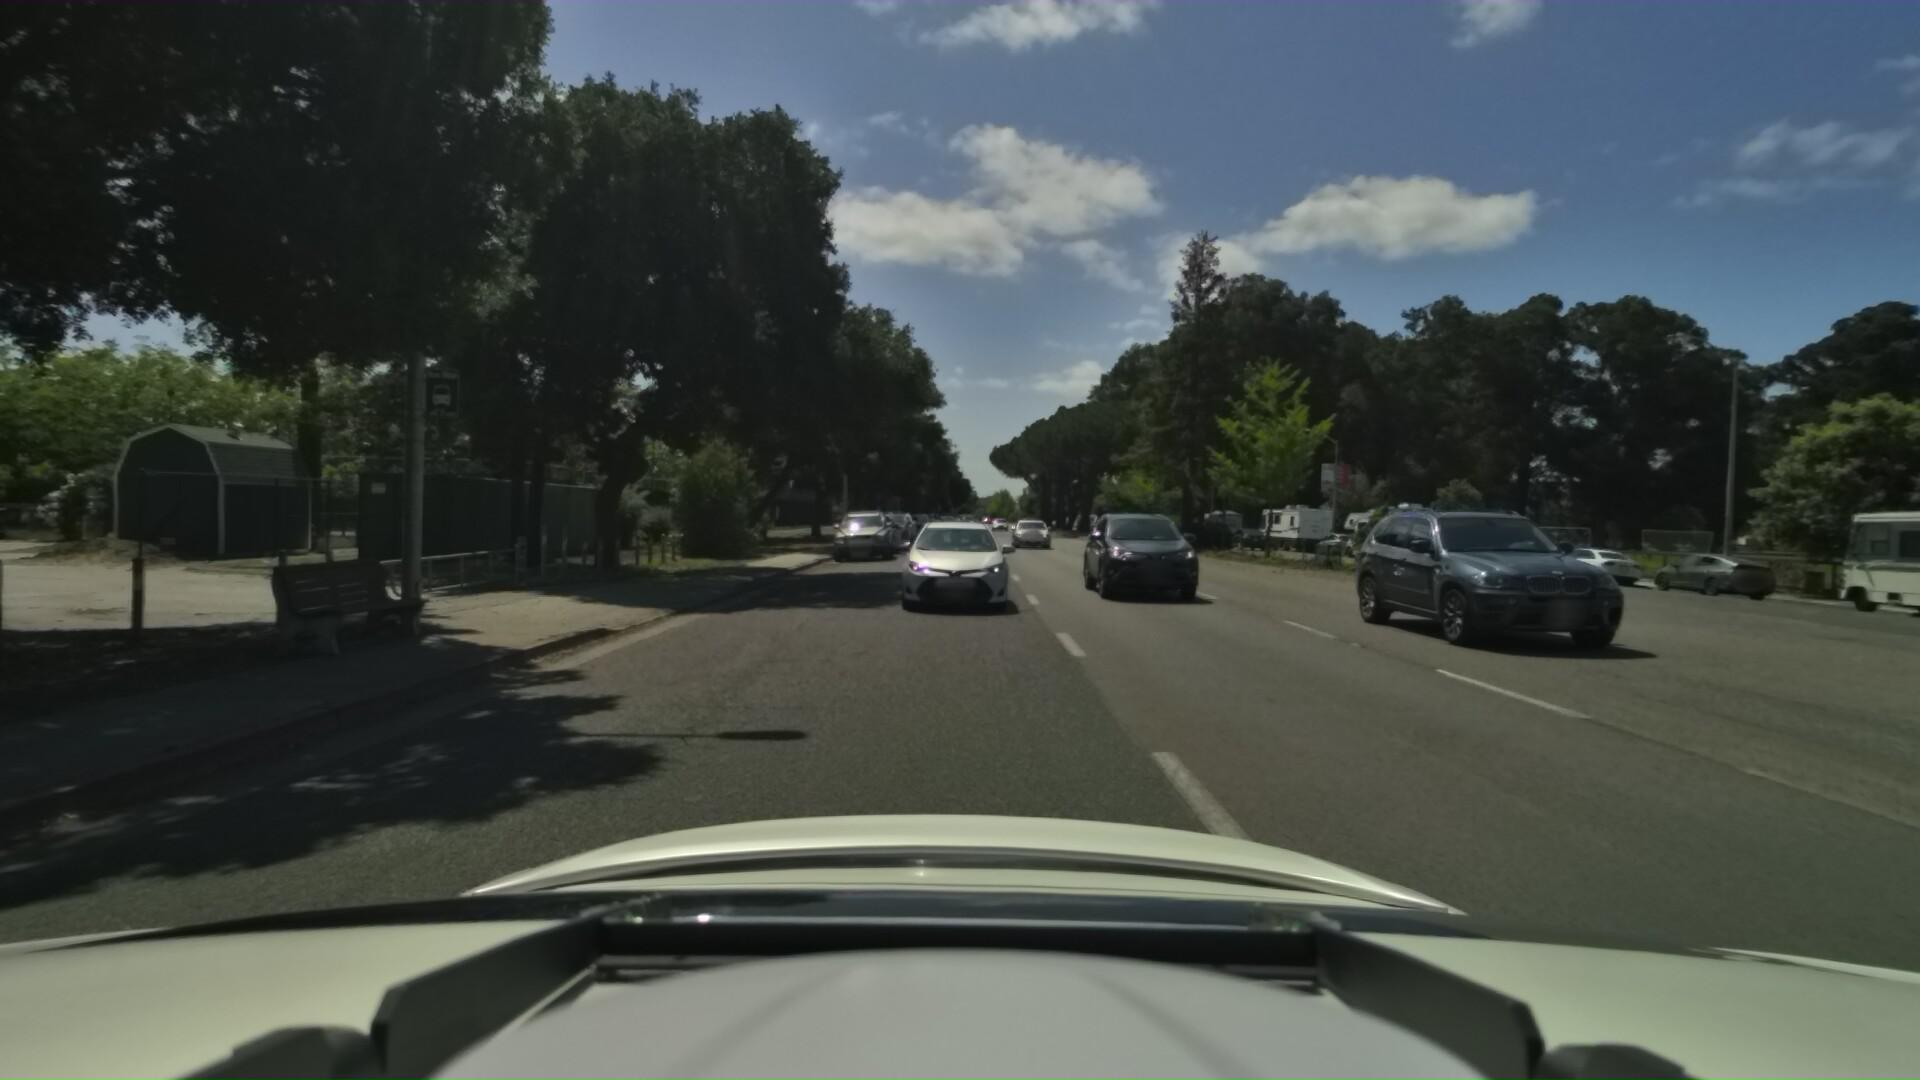car: (1309, 495, 1578, 642), (891, 509, 1014, 615), (1067, 504, 1184, 593), (1625, 541, 1771, 595), (1524, 535, 1638, 582), (1466, 530, 1561, 576), (829, 501, 902, 560), (851, 506, 905, 556), (858, 509, 909, 551), (866, 504, 916, 546), (880, 504, 920, 541), (1307, 525, 1358, 553), (1009, 512, 1050, 546), (1224, 520, 1269, 547), (905, 506, 934, 531)
other_vehicle: (1796, 483, 1920, 640), (1331, 493, 1444, 563), (1251, 497, 1332, 549)
